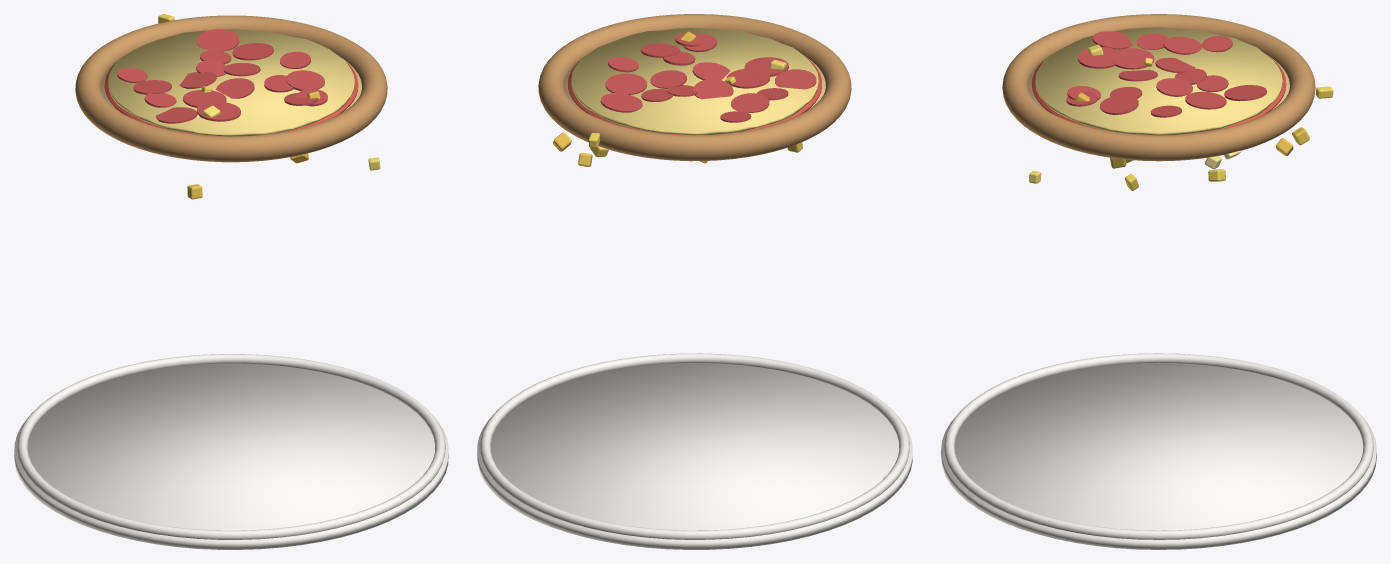
The model's file is pizza.glb.
The picture shows the model from 3 angles, left to right: view 1: azimuth 30°, elevation 25°; view 2: azimuth 150°, elevation 25°; view 3: azimuth 270°, elevation 25°; orthographic projection.
Parts seen in each view (by area): view 1: Plate, Crust, Cheese, PlateRim, Sauce, Pepperoni_15, Pepperoni_07, Pepperoni_02, Pepperoni_13, Pepperoni_10, Pepperoni_04, Pepperoni_14; view 2: Plate, Crust, Cheese, PlateRim, Sauce, Pepperoni_10, Pepperoni_14, Pepperoni_13, Pepperoni_15, Pepperoni_16, Pepperoni_00, Pepperoni_09 (+1 smaller); view 3: Plate, Crust, Cheese, PlateRim, Sauce, Pepperoni_13, Pepperoni_07, Pepperoni_10, Pepperoni_04, Pepperoni_00, Pepperoni_14, Pepperoni_15 (+1 smaller).
Part boxes in pixels (x1,y1,x2,y2): Plate: [14, 363, 448, 549]; Crust: [75, 15, 387, 162]; Cheese: [108, 29, 354, 136]; PlateRim: [17, 354, 445, 539]; Sauce: [104, 54, 358, 136]; Pepperoni_15: [196, 29, 239, 51]; Pepperoni_07: [286, 70, 324, 90]; Pepperoni_02: [215, 78, 254, 98]; Pepperoni_13: [183, 90, 226, 107]; Pepperoni_10: [232, 43, 273, 60]; Pepperoni_04: [196, 102, 240, 121]; Pepperoni_14: [155, 107, 197, 123]; Plate: [477, 363, 912, 549]; Crust: [538, 14, 851, 161]; Cheese: [571, 28, 818, 135]; PlateRim: [480, 353, 909, 539]; Sauce: [568, 56, 821, 135]; Pepperoni_10: [605, 73, 646, 94]; Pepperoni_14: [775, 69, 816, 89]; Pepperoni_13: [726, 68, 770, 88]; Pepperoni_15: [600, 93, 642, 112]; Pepperoni_16: [693, 79, 733, 99]; Pepperoni_00: [731, 93, 769, 112]; Pepperoni_09: [650, 70, 686, 88]; Plate: [941, 362, 1376, 549]; Crust: [1002, 14, 1315, 161]; Cheese: [1035, 27, 1282, 135]; PlateRim: [944, 353, 1373, 539]; Sauce: [1031, 53, 1286, 135]; Pepperoni_13: [1110, 48, 1154, 69]; Pepperoni_07: [1099, 95, 1138, 114]; Pepperoni_10: [1185, 91, 1226, 109]; Pepperoni_04: [1078, 47, 1121, 68]; Pepperoni_00: [1163, 36, 1202, 54]; Pepperoni_14: [1092, 31, 1132, 49]; Pepperoni_15: [1224, 85, 1266, 101].
Size of what is drawn, in the model's own units: 3.7 by 3.62 by 3.7.
